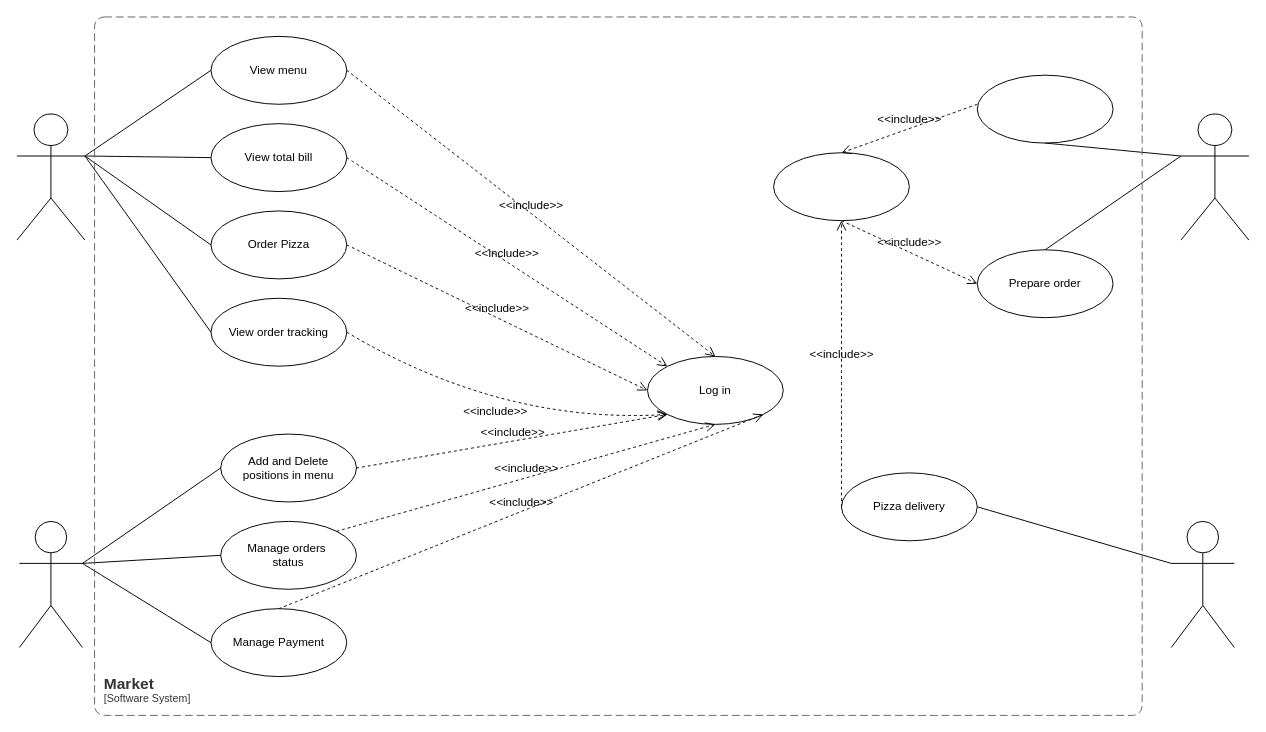
Some shapes in this 1266 by 732 pixel diagram are drawn without their labels. Here are the shapes that lost their labels. From the top down, the centre of each, then its label:
At (x=1044, y=108): "View order".
At (x=50, y=176): "Customer".
At (x=841, y=186): "Receive order".
At (x=1214, y=176): "Chef".
At (x=50, y=583): "Admin".
At (x=1202, y=583): "Delivery".
